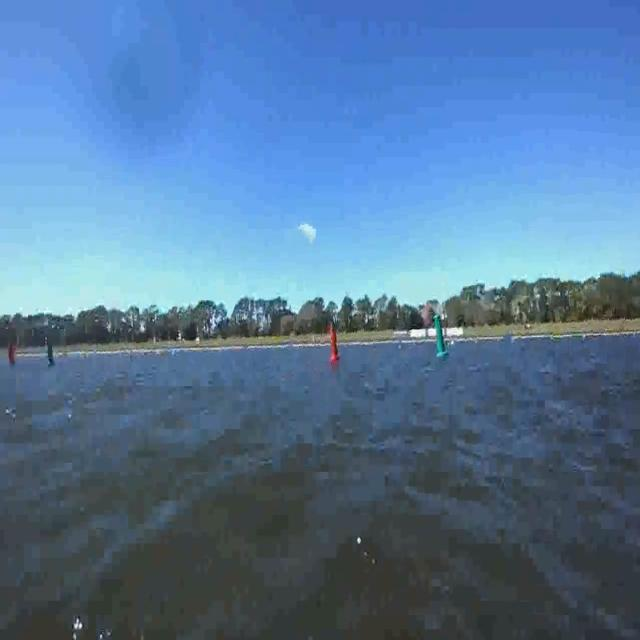green-column-buoy: (433, 316, 449, 360), (44, 336, 56, 368)
red-column-buoy: (328, 326, 340, 362), (8, 343, 16, 365)
